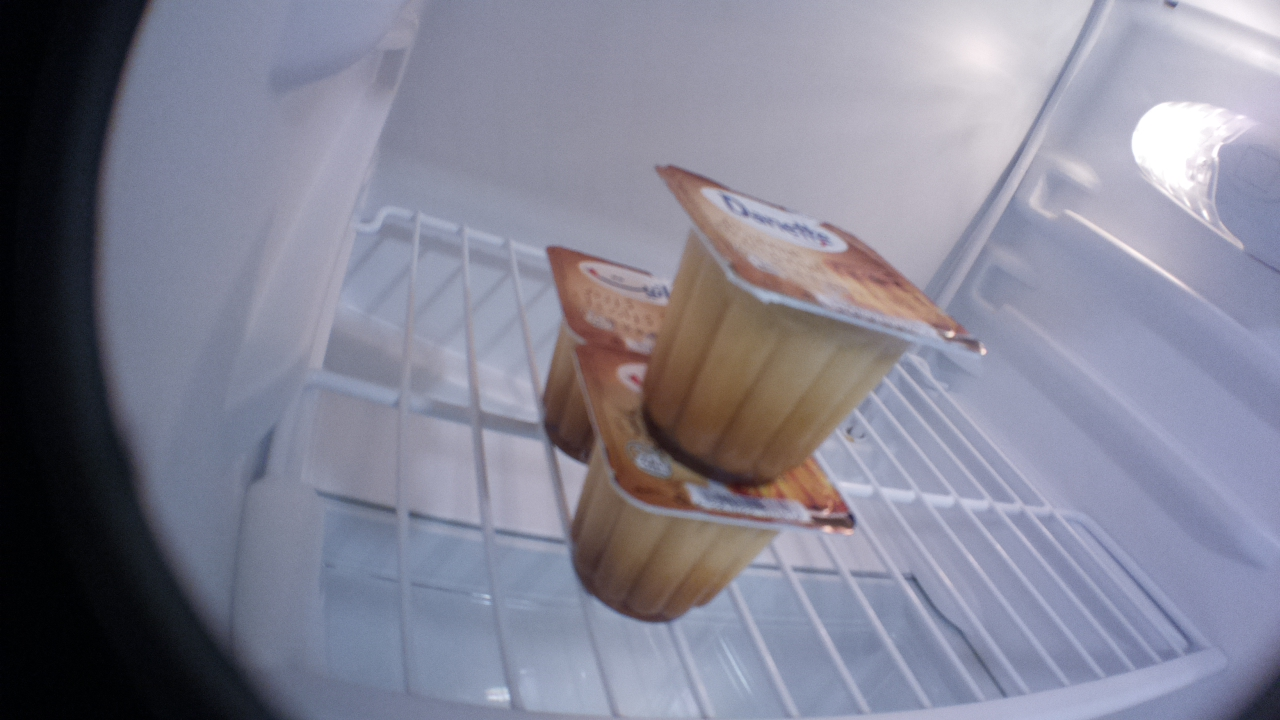caramel: (640, 160, 987, 490), (567, 348, 858, 623), (542, 241, 653, 460)
